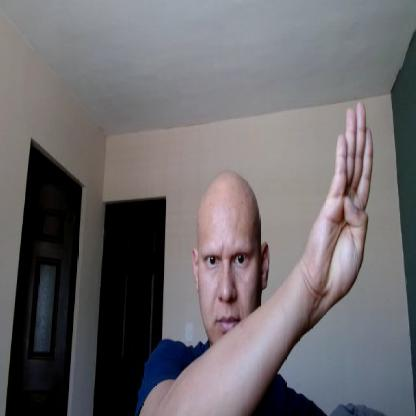B: (305, 101, 373, 304)
